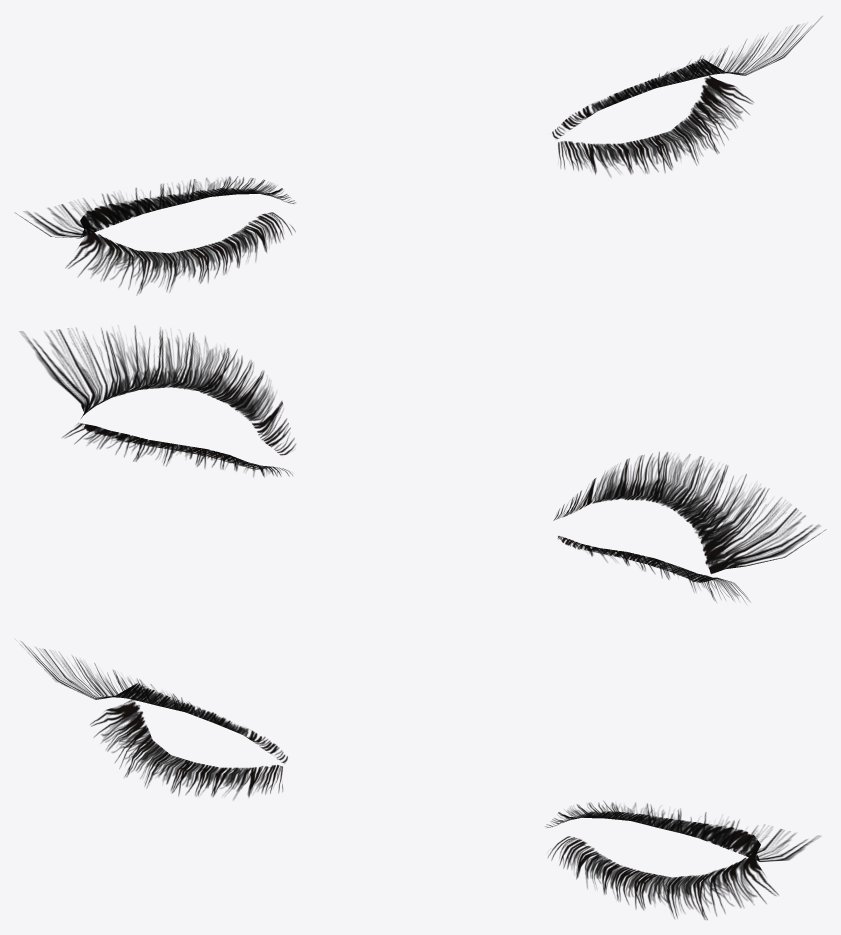
The model's file is eyelashes_default.glb.
3 views of the same model, one above another, from view 1: azimuth 30°, elevation 25°; view 2: azimuth 150°, elevation 25°; view 3: azimuth 330°, elevation 25° (orthographic).
Visible parts, largest first — view 1: Human.eyelashes02; view 2: Human.eyelashes02; view 3: Human.eyelashes02.
Boxes of the visible parts, x1,y1,x2,y2 form: Human.eyelashes02: [14, 16, 822, 294]; Human.eyelashes02: [19, 326, 826, 602]; Human.eyelashes02: [20, 641, 820, 919].
Bounding box in the file's own units: 0.1121 × 0.0167 × 0.0136.
1 material, 1 textured.
